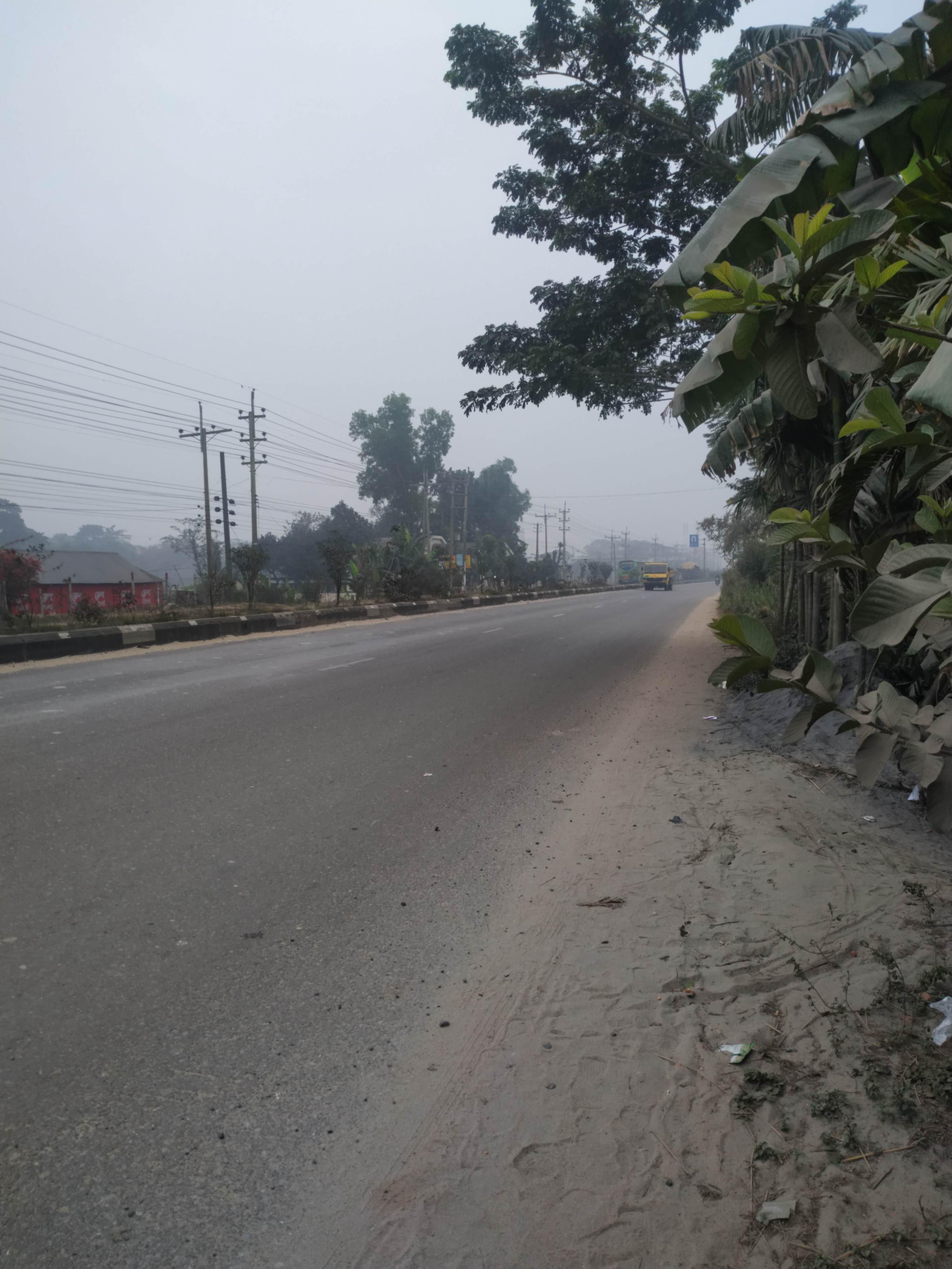Truck: (624, 549, 685, 615)
